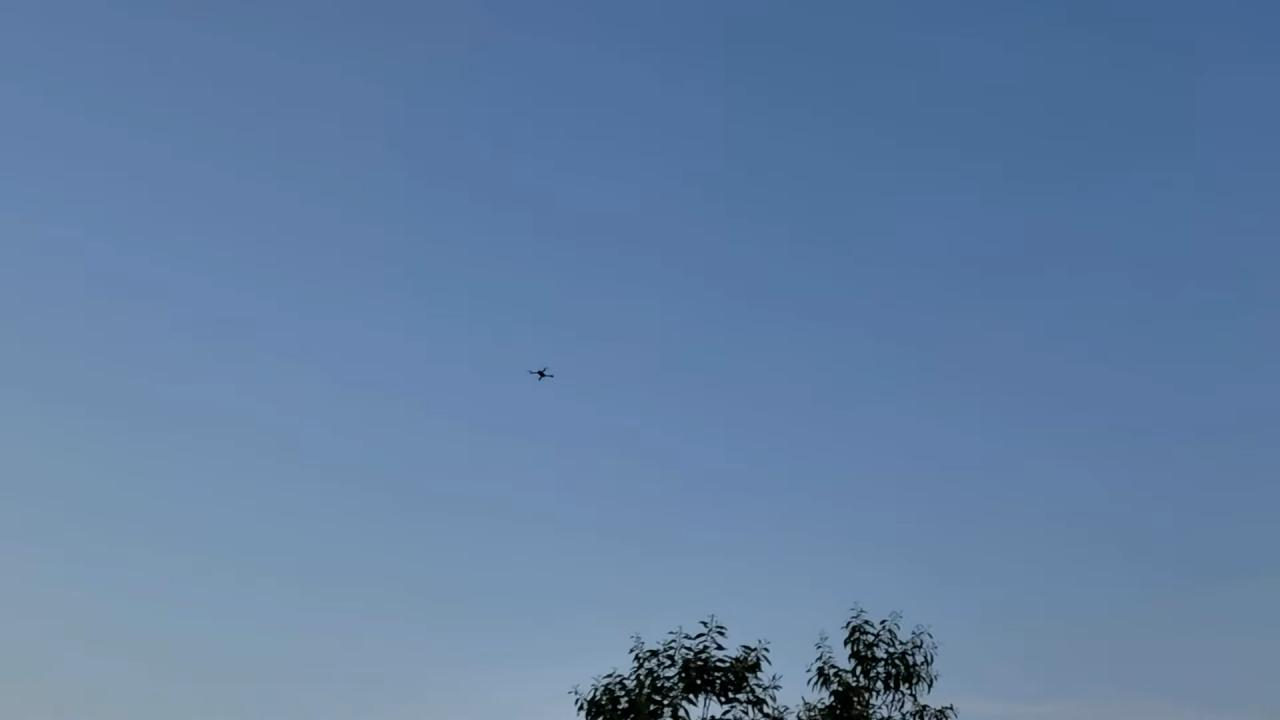Drone: (521, 358, 563, 390)
